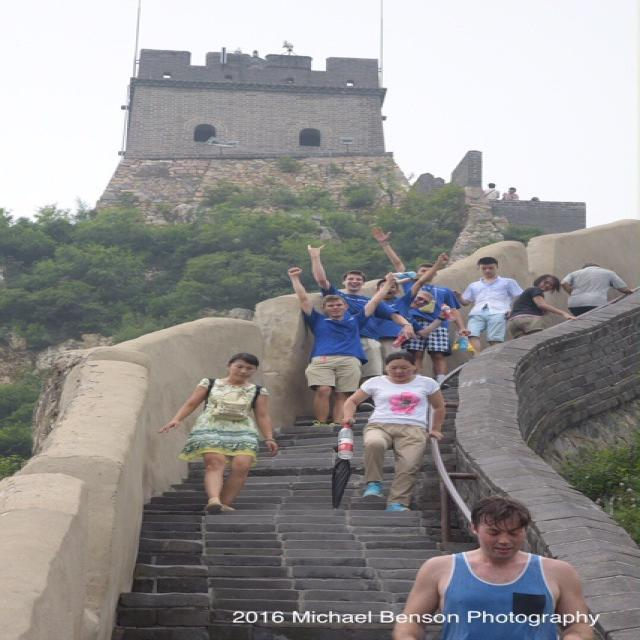body: (387, 493, 607, 639), (154, 351, 280, 517), (284, 266, 399, 429), (340, 351, 447, 514), (368, 225, 475, 386), (305, 242, 419, 389), (374, 251, 452, 378), (448, 255, 526, 355), (505, 274, 579, 340), (558, 261, 640, 319), (404, 289, 454, 337), (481, 182, 501, 200), (245, 47, 265, 64), (500, 186, 520, 202), (528, 195, 541, 201)
